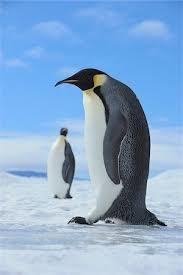emporer: (46, 64, 172, 232)
